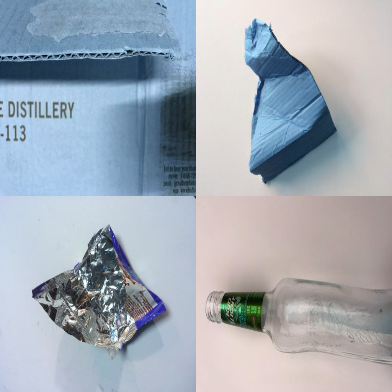cardboard: (1, 1, 195, 195), (244, 17, 337, 184)
glass: (205, 278, 392, 369)
trash: (31, 223, 167, 360)
